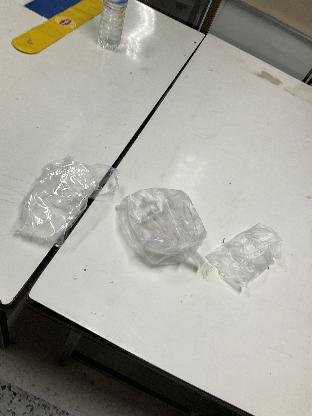Others: (10, 153, 116, 251), (112, 186, 206, 274), (208, 214, 288, 298)
